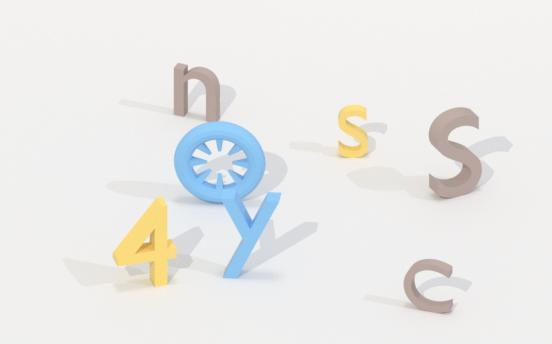chu_khoi: (223, 192, 280, 277), (429, 107, 481, 197), (173, 63, 220, 121), (403, 259, 452, 312), (338, 104, 368, 157)
dia_sao: (191, 140, 247, 188)
so_khoi: (113, 197, 175, 286)
